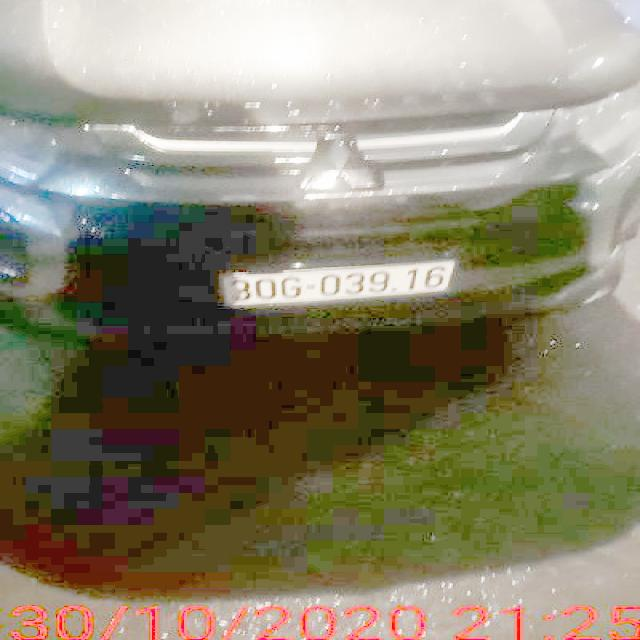license_plate: (230, 260, 457, 307)
